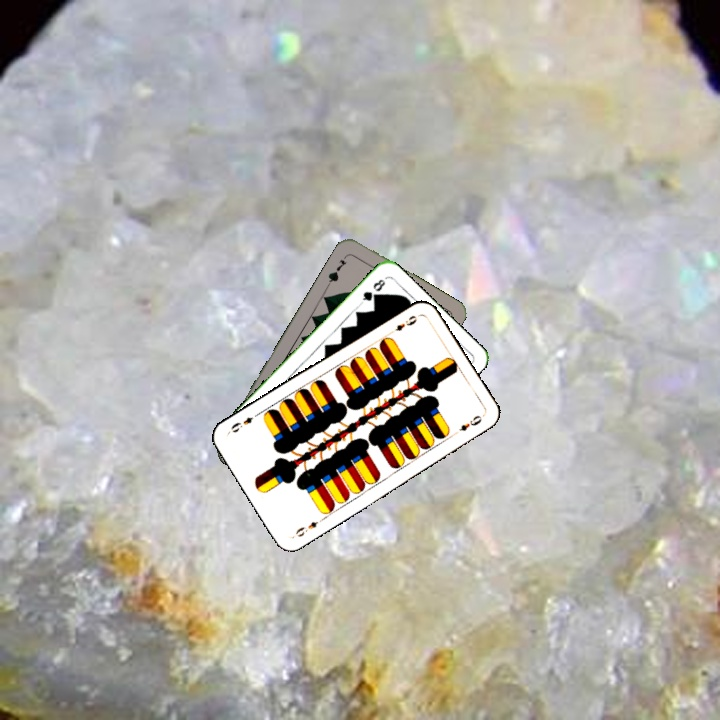E9: (386, 311, 419, 337), (290, 517, 321, 540)
G7: (324, 255, 349, 288)
G8: (356, 275, 388, 307)
